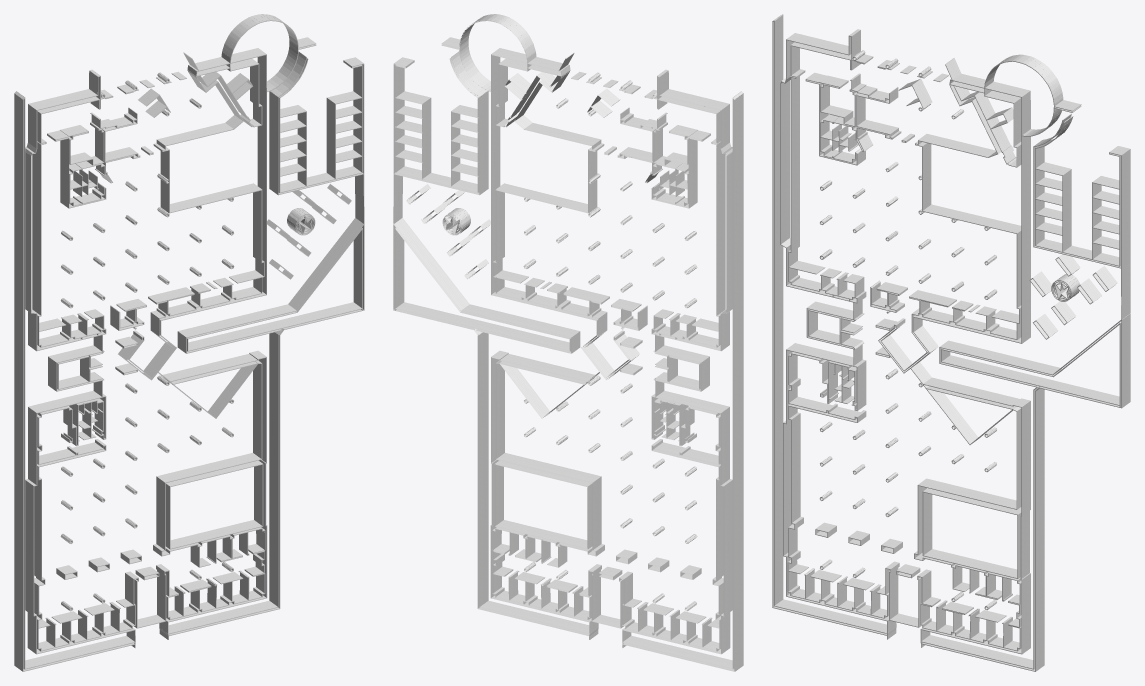
Rendered from wall_1.obj.
The picture shows the model from 3 angles, left to right: view 1: azimuth 30°, elevation 25°; view 2: azimuth 150°, elevation 25°; view 3: azimuth 330°, elevation 25°; orthographic projection. The views are drawn at different scales.
Parts seen in each view (by area): view 1: walls; view 2: walls; view 3: walls.
Boxes of the visible parts, x1=… form: walls: x1=14, y1=14, x2=364, y2=671; walls: x1=393, y1=14, x2=743, y2=671; walls: x1=772, y1=14, x2=1130, y2=671.
Size of the model in its own units: 56.75 by 94.46 by 2.5.
